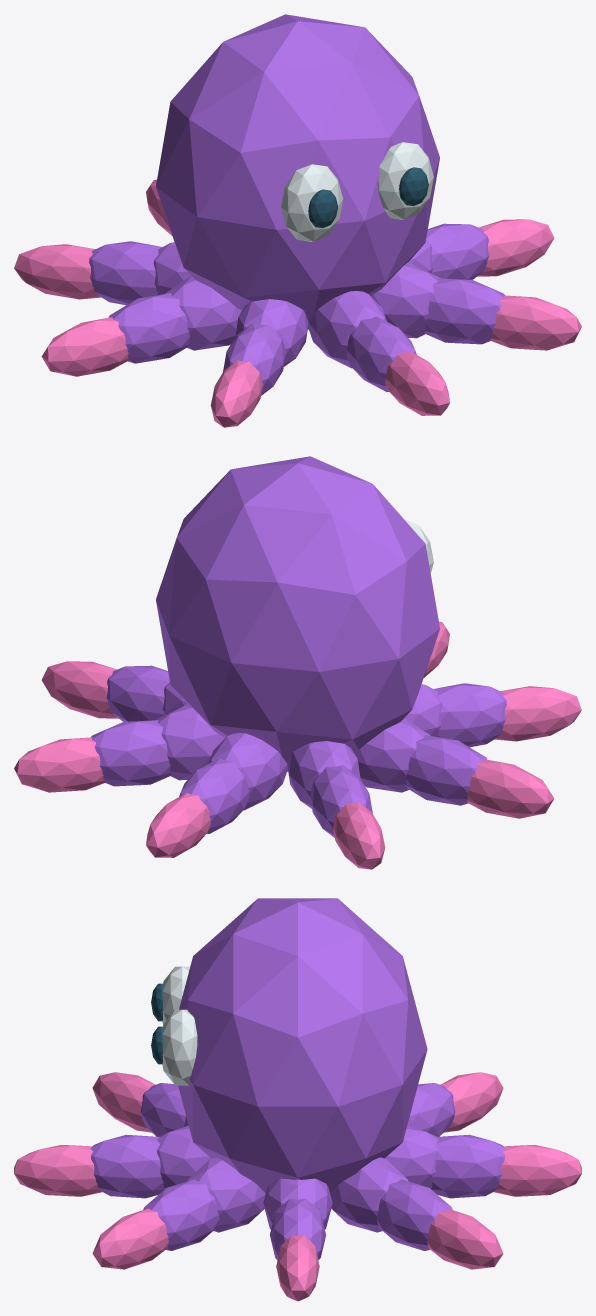
Rendered from octopus.glb.
3 views of the same model, one above another, from view 1: azimuth 30°, elevation 25°; view 2: azimuth 150°, elevation 25°; view 3: azimuth 270°, elevation 25° (orthographic). The views are drawn at different scales.
Parts seen in each view (by area): view 1: Mantle, TentacleSegment.022, TentacleSegment.013, TentacleSegment.023, TentacleSegment.014, TentacleSegment.010, TentacleSegment.011, TentacleSegment.012, TentacleSegment.002, TentacleSegment.018, TentacleSegment.021, TentacleSegment.001 (+11 smaller); view 2: Mantle, TentacleSegment.004, TentacleSegment.013, TentacleSegment.005, TentacleSegment.014, TentacleSegment.016, TentacleSegment.017, TentacleSegment.012, TentacleSegment.002, TentacleSegment.006, TentacleSegment.003, TentacleSegment.001 (+7 smaller); view 3: Mantle, TentacleSegment.007, TentacleSegment.019, TentacleSegment.008, TentacleSegment.020, TentacleSegment.004, TentacleSegment.022, TentacleSegment.005, TentacleSegment.023, TentacleSegment.003, TentacleSegment.021, TentacleSegment.011 (+10 smaller).
Part boxes in pixels (bbox=[...]): Mantle: bbox=[156, 14, 439, 329]; TentacleSegment.022: bbox=[424, 278, 505, 344]; TentacleSegment.013: bbox=[108, 293, 190, 363]; TentacleSegment.023: bbox=[490, 295, 581, 350]; TentacleSegment.014: bbox=[41, 317, 128, 376]; TentacleSegment.010: bbox=[89, 241, 162, 305]; TentacleSegment.011: bbox=[14, 244, 101, 299]; TentacleSegment.012: bbox=[165, 276, 241, 350]; TentacleSegment.002: bbox=[477, 219, 554, 276]; TentacleSegment.018: bbox=[308, 291, 387, 368]; TentacleSegment.021: bbox=[371, 262, 440, 338]; TentacleSegment.001: bbox=[426, 223, 489, 279]; Mantle: bbox=[156, 456, 439, 771]; TentacleSegment.004: bbox=[90, 720, 171, 786]; TentacleSegment.013: bbox=[405, 735, 487, 805]; TentacleSegment.005: bbox=[14, 737, 105, 792]; TentacleSegment.014: bbox=[467, 759, 554, 818]; TentacleSegment.016: bbox=[433, 683, 506, 747]; TentacleSegment.017: bbox=[494, 686, 581, 741]; TentacleSegment.012: bbox=[354, 718, 430, 792]; TentacleSegment.002: bbox=[41, 661, 118, 718]; TentacleSegment.006: bbox=[208, 733, 287, 810]; TentacleSegment.003: bbox=[155, 704, 224, 780]; TentacleSegment.001: bbox=[106, 665, 169, 721]; Mantle: bbox=[178, 898, 427, 1193]; TentacleSegment.007: bbox=[431, 1134, 505, 1198]; TentacleSegment.019: bbox=[90, 1134, 164, 1198]; TentacleSegment.008: bbox=[493, 1144, 581, 1196]; TentacleSegment.020: bbox=[14, 1144, 102, 1196]; TentacleSegment.004: bbox=[376, 1179, 452, 1250]; TentacleSegment.022: bbox=[143, 1179, 219, 1250]; TentacleSegment.005: bbox=[427, 1208, 503, 1269]; TentacleSegment.023: bbox=[92, 1208, 168, 1269]; TentacleSegment.003: bbox=[330, 1157, 408, 1232]; TentacleSegment.021: bbox=[187, 1157, 265, 1232]; TentacleSegment.011: bbox=[440, 1072, 503, 1132].
Size of the model in its own units: 2.45 by 1.41 by 2.45.
